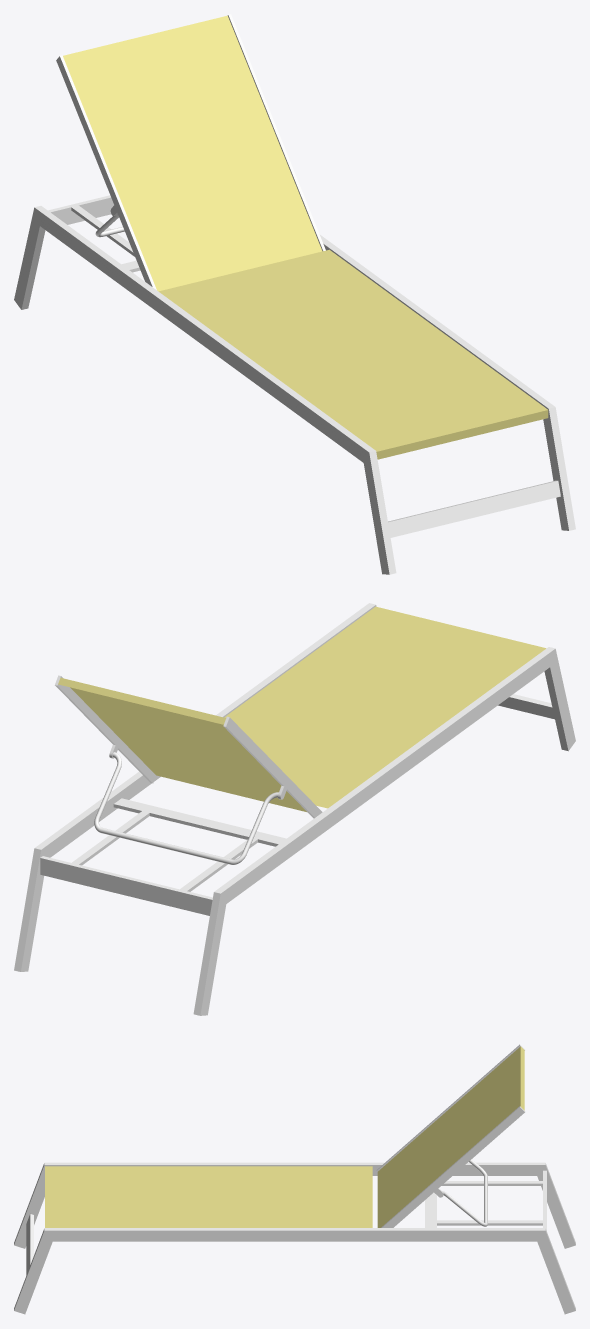
File: reposera.FBX
3 views of the same model, one above another, from view 1: azimuth 30°, elevation 25°; view 2: azimuth 150°, elevation 25°; view 3: azimuth 270°, elevation 25° (orthographic). The views are drawn at different scales.
Visible parts, largest first — view 1: Model; view 2: Model; view 3: Model.
Part boxes in pixels (x1,y1,x2,y2): Model: (14, 14, 575, 574); Model: (14, 603, 575, 1015); Model: (14, 1044, 575, 1314).
Bounding box in the file's own units: 22.33 × 31.38 × 77.94.
